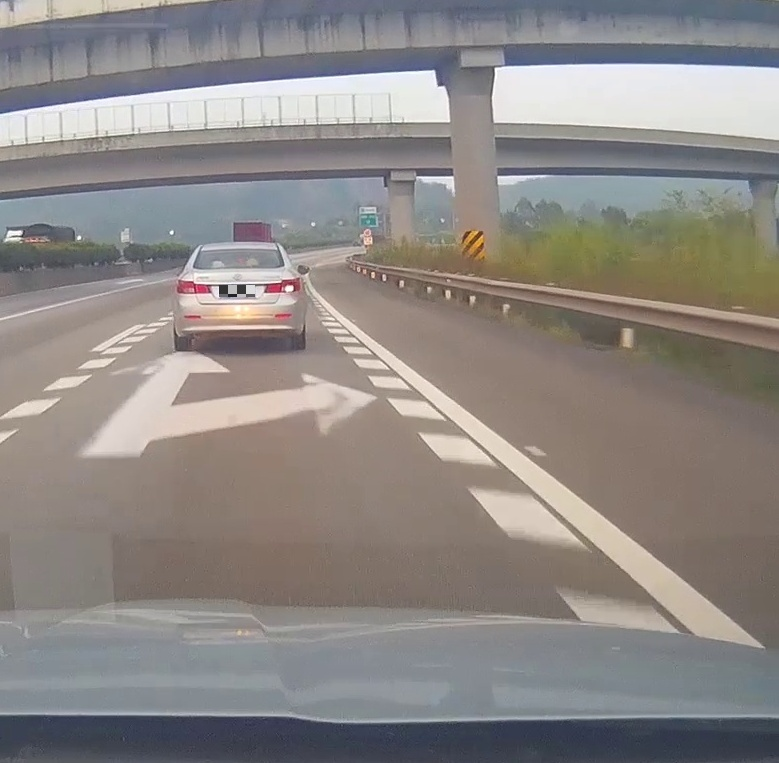L_light: (176, 279, 211, 294)
R_light: (264, 277, 301, 294)
T_light: (233, 250, 244, 252)
day-right: (173, 241, 305, 352)
plate_1: (219, 285, 255, 297)
